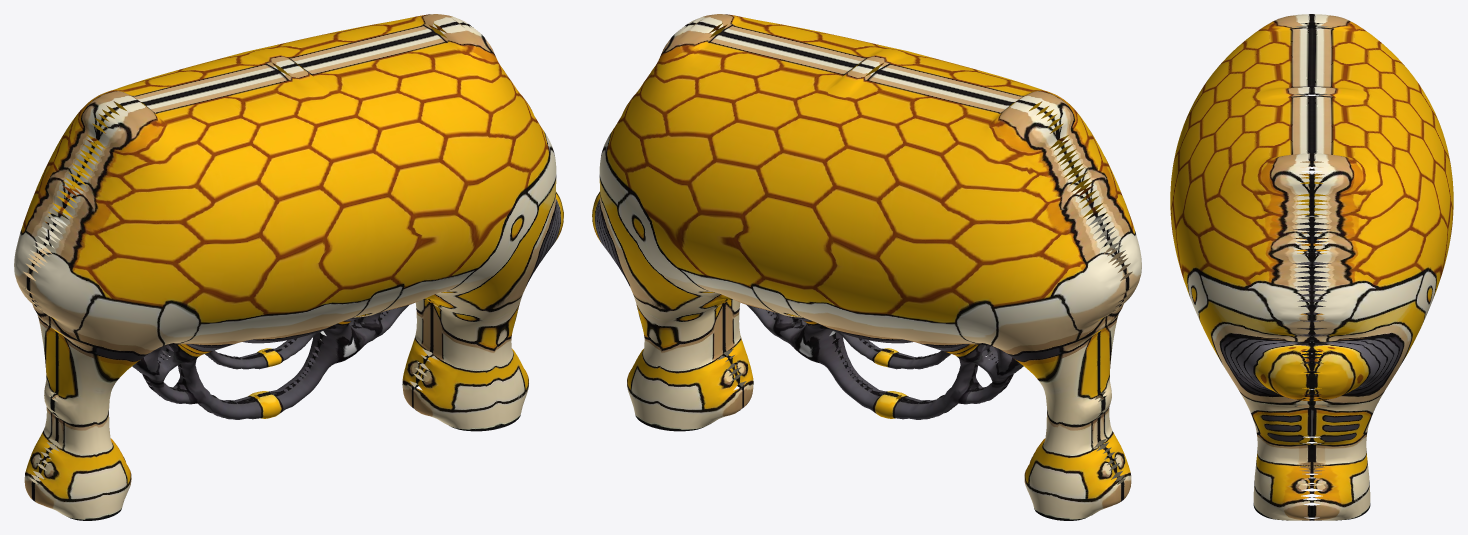
The model's file is service_deck.glb.
3 renders of one model, left to right at view 1: azimuth 30°, elevation 25°; view 2: azimuth 150°, elevation 25°; view 3: azimuth 270°, elevation 25°, orthographic. The views are drawn at different scales.
Visible parts, largest first — view 1: service_deck; view 2: service_deck; view 3: service_deck.
Boxes of the visible parts, x1=… form: service_deck: x1=14, y1=14, x2=563, y2=520; service_deck: x1=592, y1=14, x2=1141, y2=520; service_deck: x1=1170, y1=14, x2=1453, y2=520.
Bounding box in the file's own units: 0.9889 × 0.6943 × 0.5228.
1 material, 1 textured.
